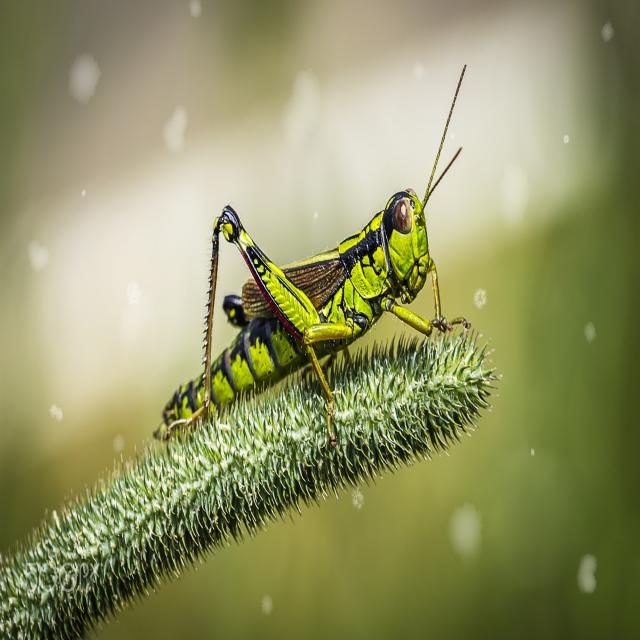ZhaMeng: (146, 143, 470, 451)
